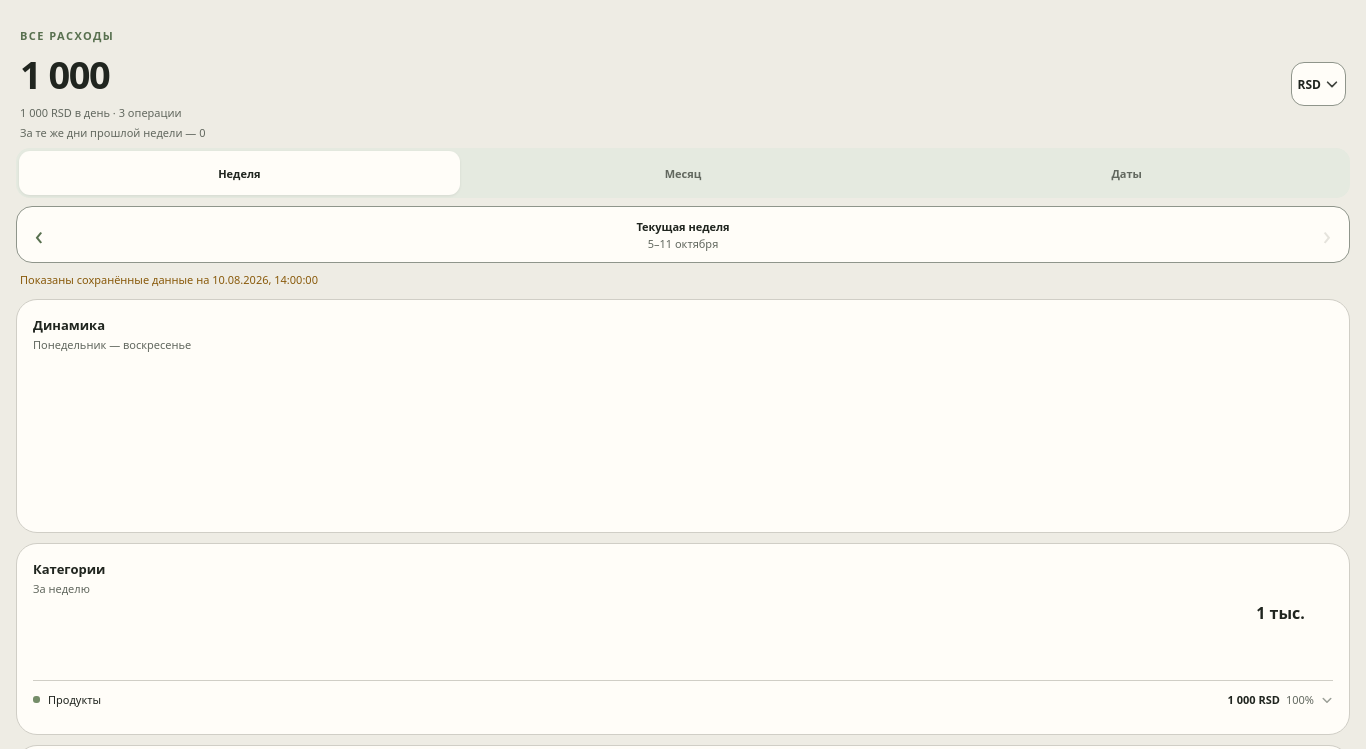
Test: analytics legend › shows what an unfolded category is made of, and narrows its records to the tapped part
Click the button "Продукты 1 000 RSD 100%" at (75, 700), box [33,680,1333,718]
(page scrolled)
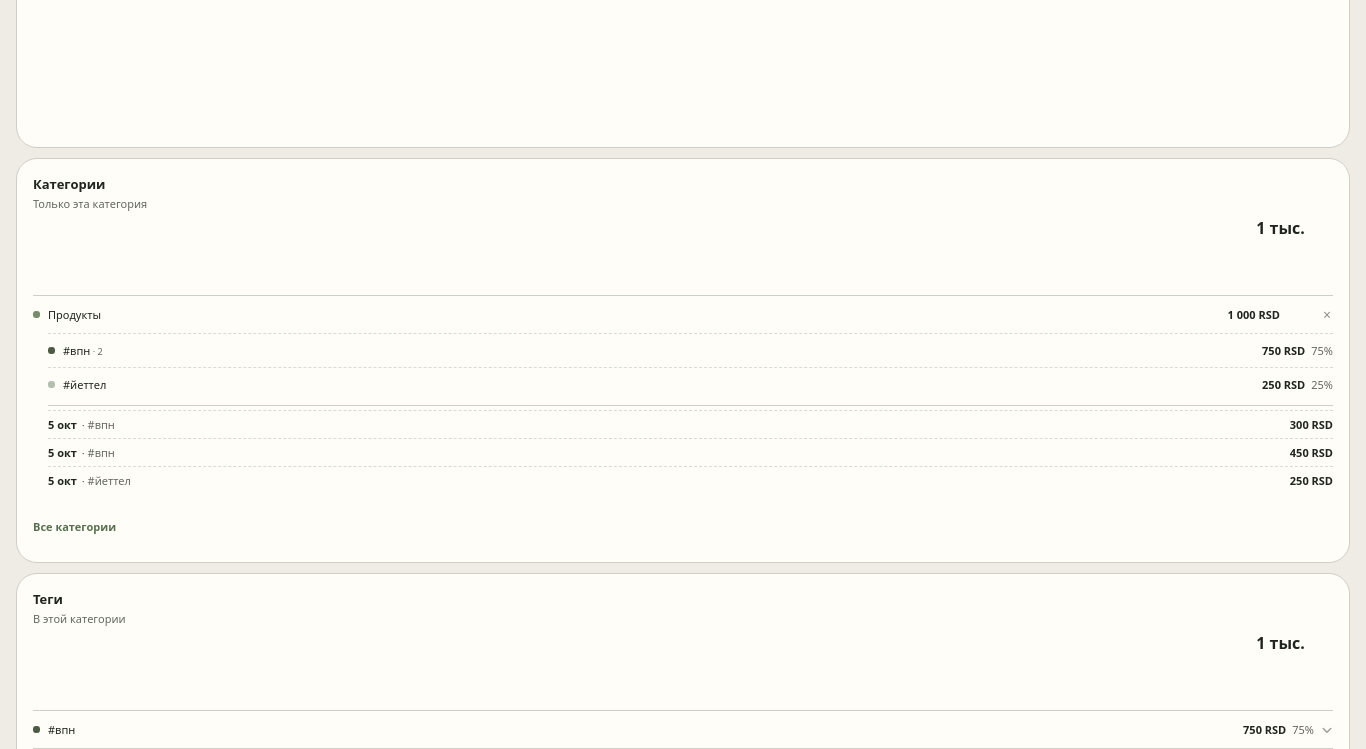
Check: the number of elements with class "legend-detail" is 3, box [48,410,1333,438]; [48,438,1333,466]; [48,466,1333,494]
Click the button with class "legend-group" below "Только эта категория" at (85, 384), box [48,367,1333,401]
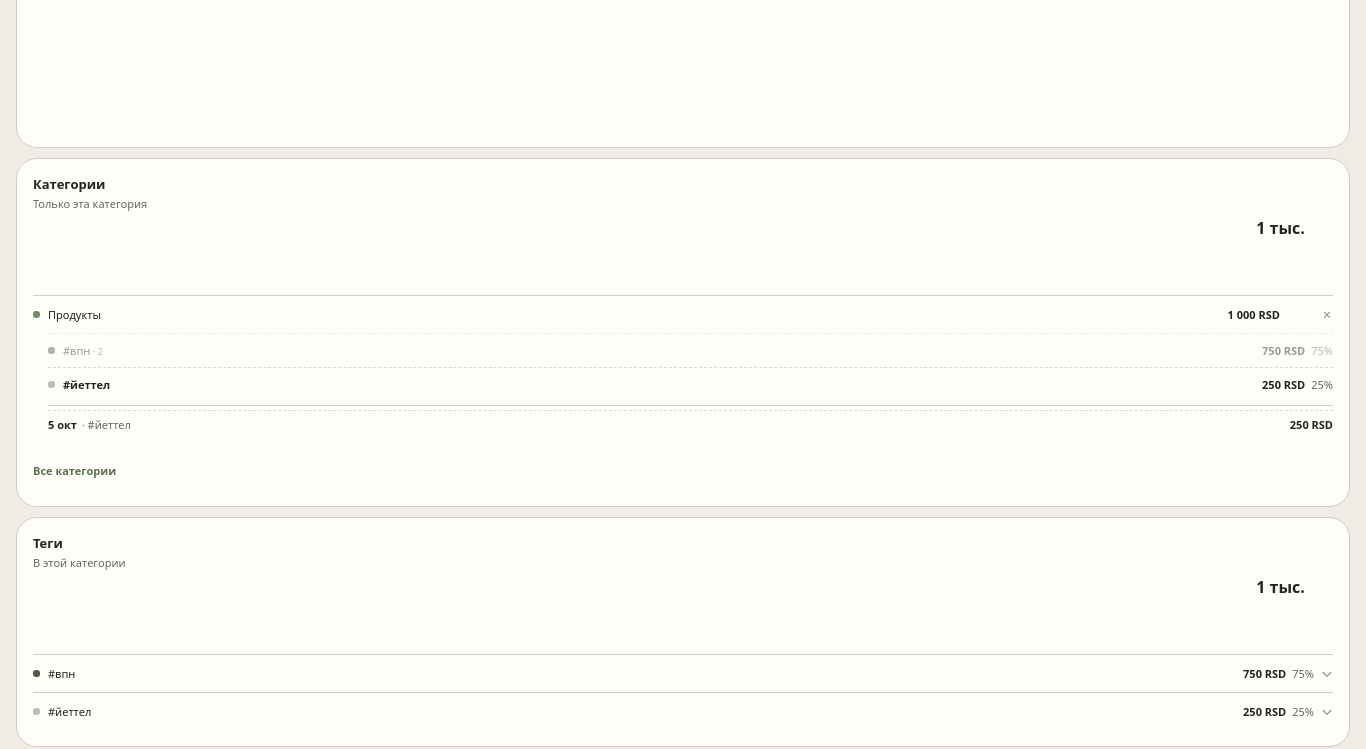
Check: the number of elements with class "legend-detail" is 1, box [48,410,1333,438]
Click the button with class "legend-group" below "Только эта категория" at (87, 384), box [48,367,1333,401]
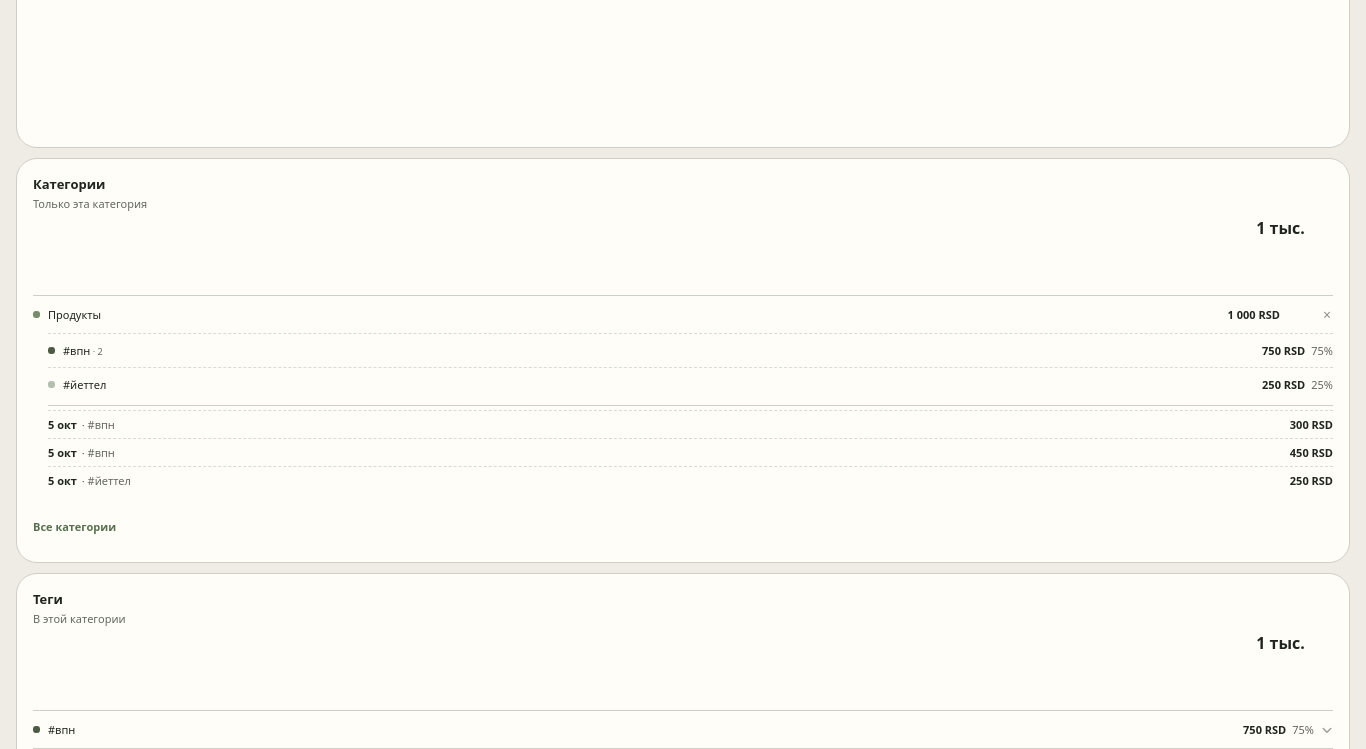
Check: the number of elements with class "legend-detail" is 3, box [48,410,1333,438]; [48,438,1333,466]; [48,466,1333,494]
